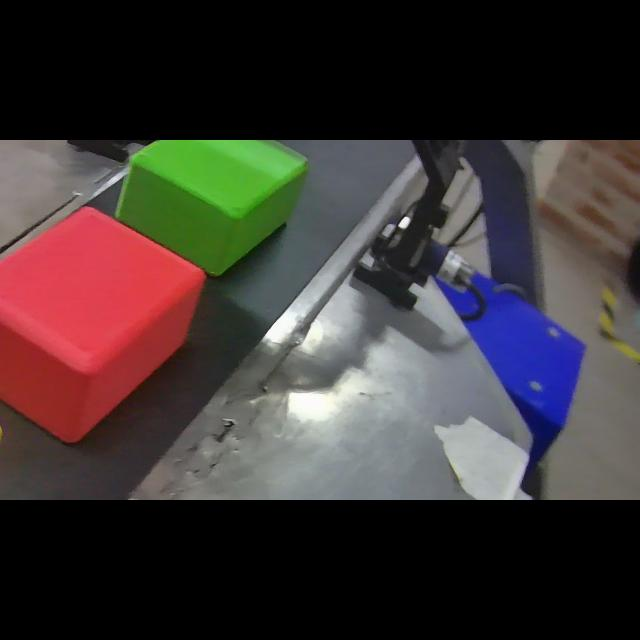greenBox: (111, 140, 311, 280)
redBox: (0, 200, 210, 450)
yellowBox: (0, 346, 8, 500)
